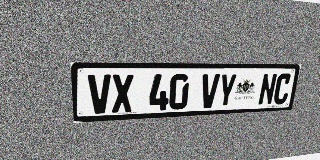0: (169, 74, 190, 110)
4: (149, 74, 170, 111)
C: (272, 73, 292, 105)
N: (258, 73, 278, 105)
V: (88, 74, 111, 114), (199, 74, 220, 108)
X: (112, 74, 133, 113)
Y: (217, 74, 237, 107)
